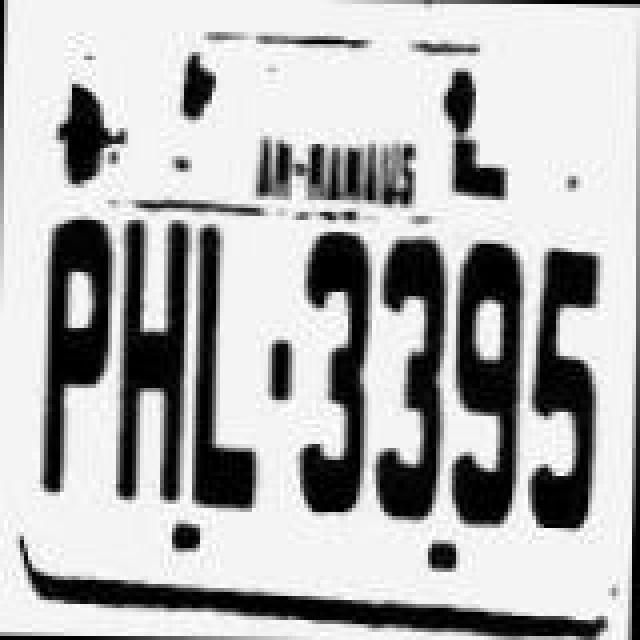3: (296, 226, 380, 518), (378, 236, 458, 520)
5: (532, 246, 612, 538)
9: (452, 240, 532, 528)
H: (112, 220, 196, 504)
L: (186, 228, 274, 512)
P: (34, 216, 114, 496)
